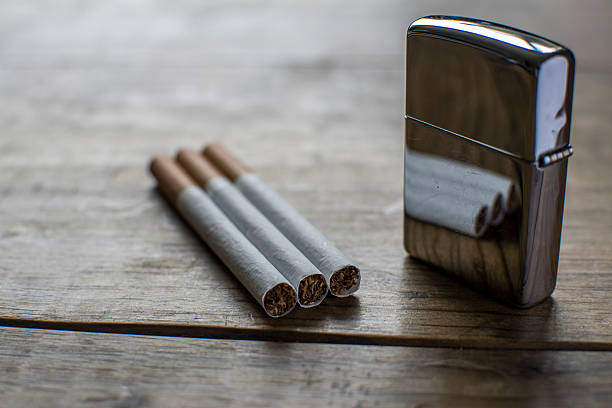cigarette: (147, 154, 297, 323), (201, 144, 362, 299), (175, 149, 329, 307), (405, 148, 522, 210), (406, 167, 505, 224), (405, 179, 488, 238)
